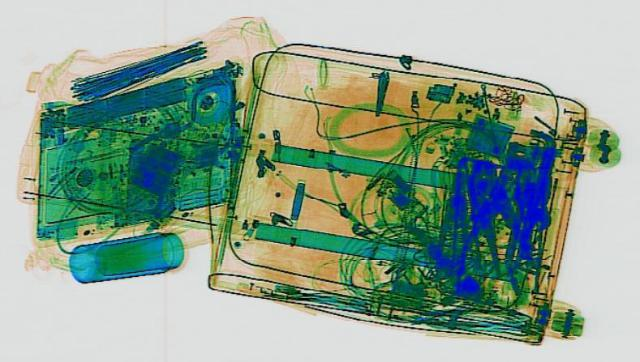Pliers: (454, 158, 538, 274)
